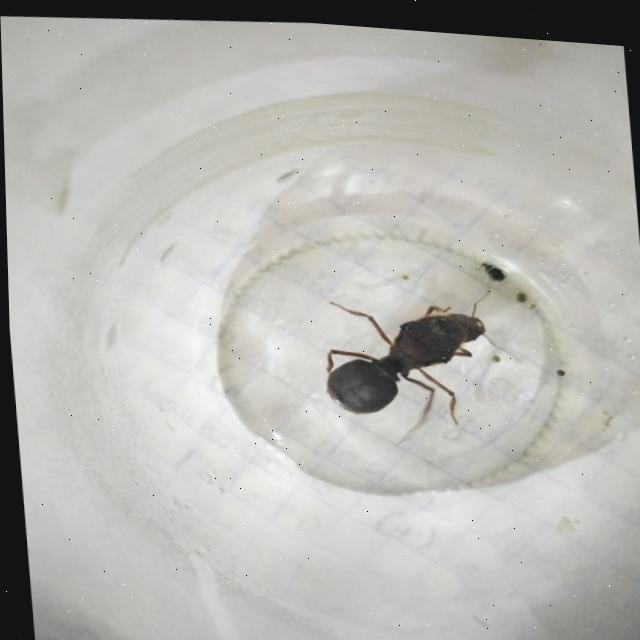Alive-Female-Dealate: (314, 258, 526, 450)
